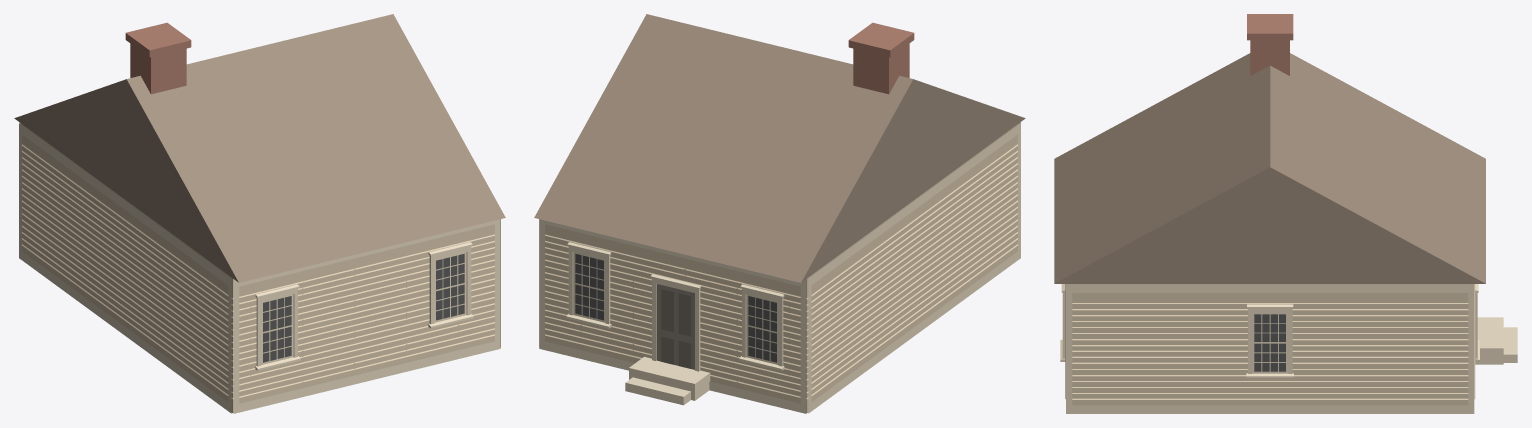
Rendered from recon_1835_blk_south_water_wells_d4_03__inferred_1835.glb.
The picture shows the model from 3 angles, left to right: view 1: azimuth 30°, elevation 25°; view 2: azimuth 150°, elevation 25°; view 3: azimuth 270°, elevation 25°; orthographic projection. The views are drawn at different scales.
Parts seen in each view (by area): view 1: recon_1835_blk_south_water_wells_d4_03__inferred_1835; view 2: recon_1835_blk_south_water_wells_d4_03__inferred_1835; view 3: recon_1835_blk_south_water_wells_d4_03__inferred_1835.
Boxes of the visible parts, x1,y1,x2,y2 form: recon_1835_blk_south_water_wells_d4_03__inferred_1835: (14, 14, 505, 413); recon_1835_blk_south_water_wells_d4_03__inferred_1835: (534, 14, 1025, 413); recon_1835_blk_south_water_wells_d4_03__inferred_1835: (1054, 14, 1517, 413).
Size of the model in its own units: 6.42 by 6.53 by 9.82.
